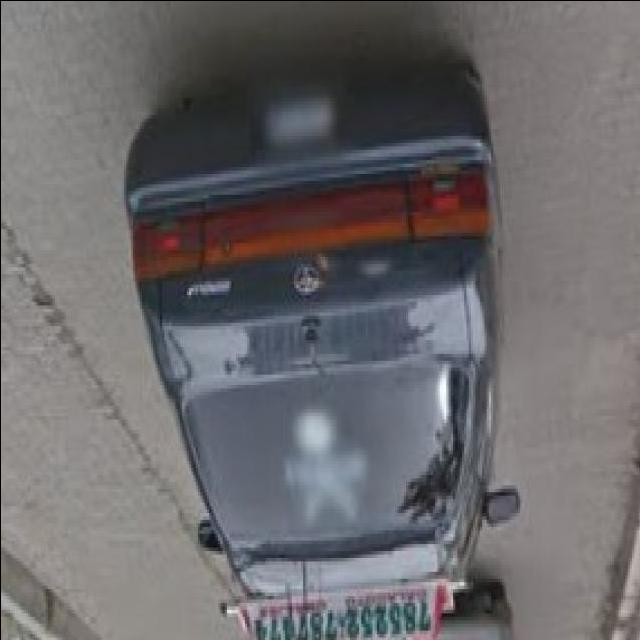car: (119, 29, 518, 630)
